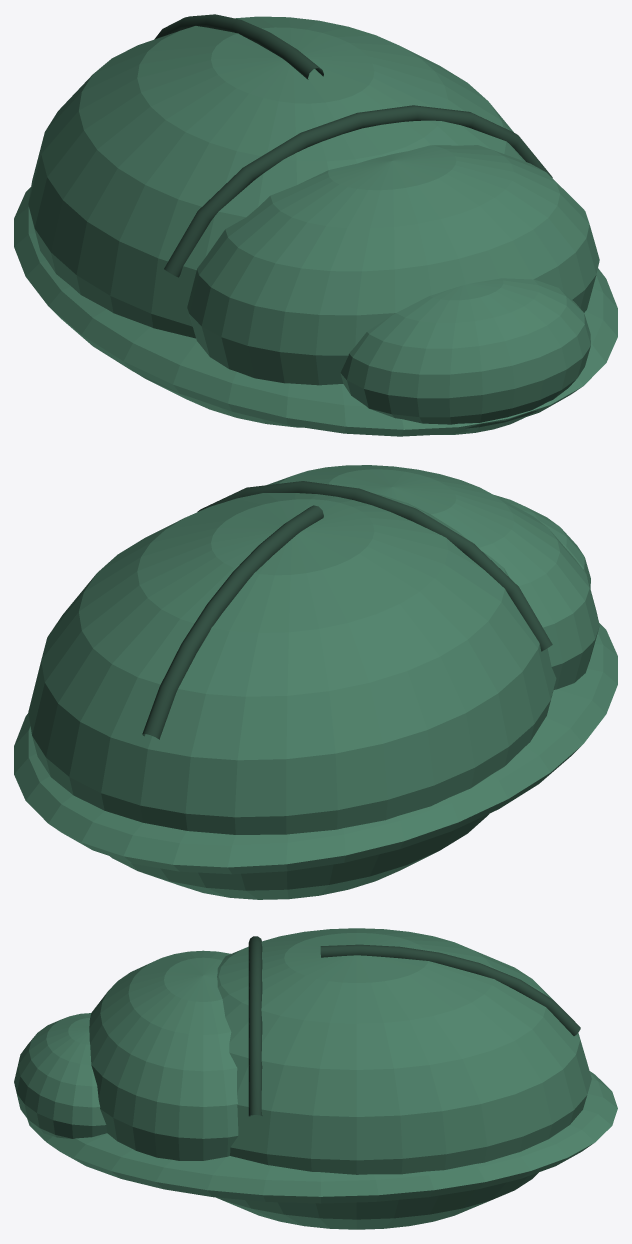
Rendered from egypt_heart_scarab.glb.
3 renders of one model, top to bottom at view 1: azimuth 30°, elevation 25°; view 2: azimuth 150°, elevation 25°; view 3: azimuth 270°, elevation 25°, orthographic. The views are drawn at different scales.
Visible parts, largest first — view 1: Rounded shell, Pronotum, Head, Oval base, Thorax incision, Wing division; view 2: Rounded shell, Oval base, Pronotum, Wing division, Thorax incision, Head; view 3: Rounded shell, Pronotum, Oval base, Head, Wing division, Thorax incision.
Boxes of the visible parts, x1,y1,x2,y2 form: Rounded shell: [28, 16, 525, 427]; Pronotum: [187, 145, 599, 385]; Head: [340, 278, 590, 434]; Oval base: [14, 187, 617, 436]; Thorax incision: [164, 105, 552, 277]; Wing division: [154, 14, 323, 79]; Rounded shell: [28, 493, 556, 899]; Oval base: [14, 623, 617, 874]; Pronotum: [266, 465, 599, 689]; Wing division: [142, 505, 323, 739]; Thorax incision: [197, 481, 552, 651]; Head: [494, 495, 590, 588]; Rounded shell: [216, 928, 591, 1229]; Pronotum: [89, 950, 238, 1160]; Oval base: [27, 1071, 617, 1203]; Head: [14, 1013, 106, 1138]; Wing division: [320, 944, 580, 1035]; Thorax incision: [248, 936, 262, 1116].
Bounding box in the file's own units: 1.28 × 0.8809 × 1.85.
